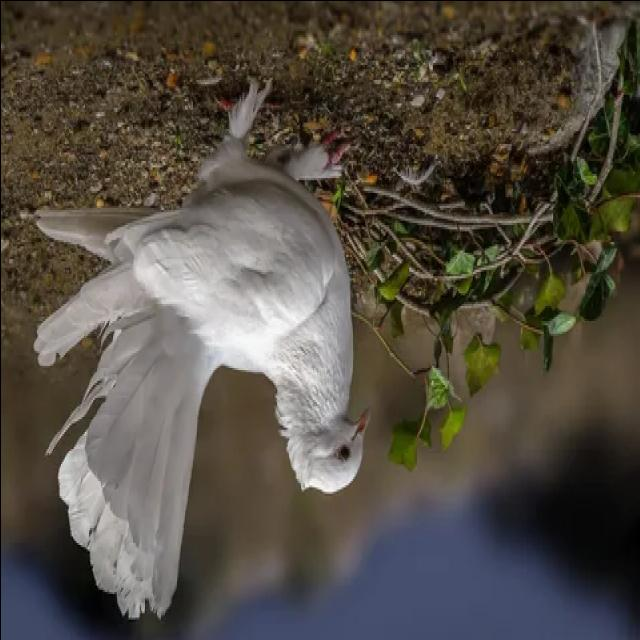pigeon: (23, 64, 376, 628)
